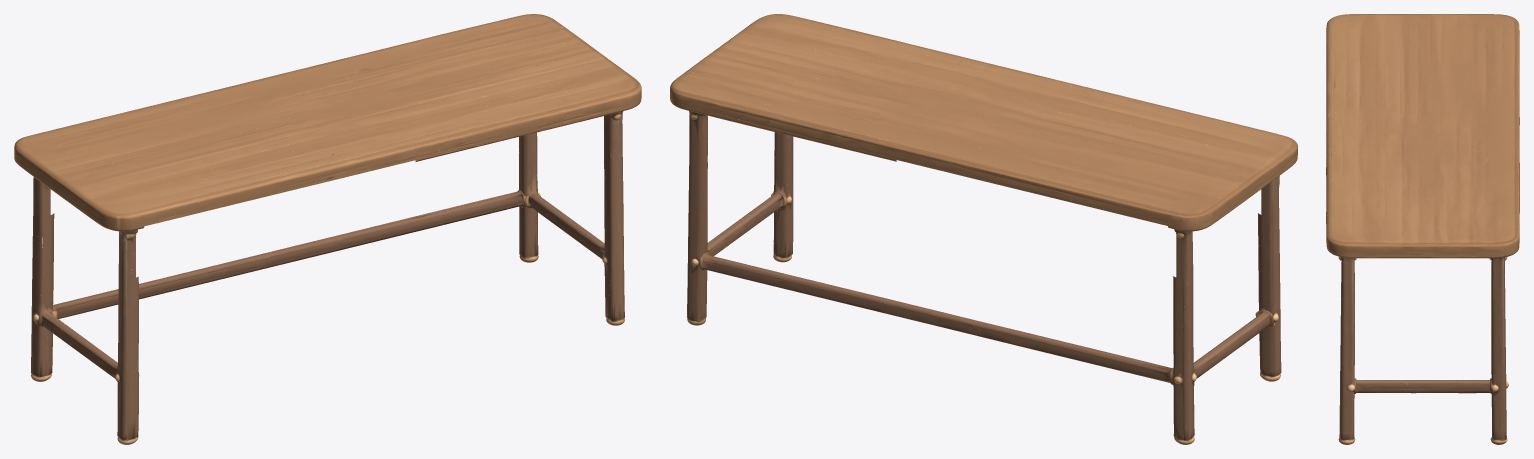
The model's file is desk.parts.glb.
3 renders of one model, left to right at view 1: azimuth 30°, elevation 25°; view 2: azimuth 150°, elevation 25°; view 3: azimuth 270°, elevation 25°, orthographic. The views are drawn at different scales.
Visible parts, largest first — view 1: body; view 2: body; view 3: body.
Part boxes in pixels (bbox=[...]): body: bbox=[14, 14, 641, 444]; body: bbox=[670, 14, 1297, 444]; body: bbox=[1326, 14, 1519, 444].
Size of the model in its own units: 1.23 by 0.5189 by 0.4329.
1 material, 1 textured.
